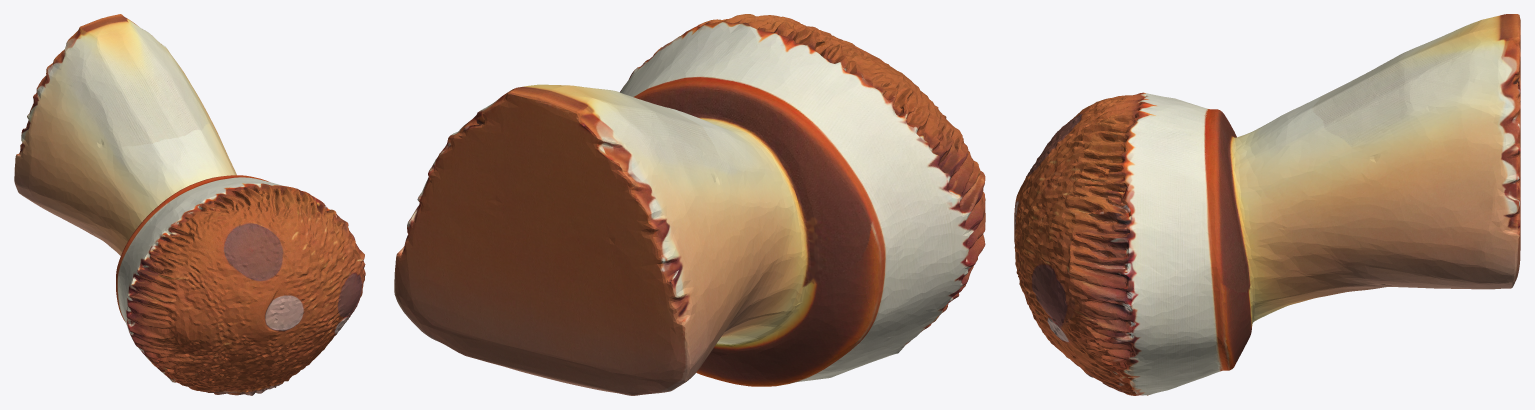
File: image_0001_segmented.glb
3 views of the same model, side by side, from view 1: azimuth 30°, elevation 25°; view 2: azimuth 150°, elevation 25°; view 3: azimuth 270°, elevation 25° (orthographic). The views are drawn at different scales.
Visible parts, largest first — view 1: tmpkp_y2idf.ply; view 2: tmpkp_y2idf.ply; view 3: tmpkp_y2idf.ply.
Boxes of the visible parts, box(x1,y1,x2,y2) form: tmpkp_y2idf.ply: box(14, 14, 365, 395); tmpkp_y2idf.ply: box(394, 14, 985, 395); tmpkp_y2idf.ply: box(1014, 14, 1520, 395).
Bounding box in the file's own units: 1.38 × 1.56 × 2.
1 material, 1 textured.
